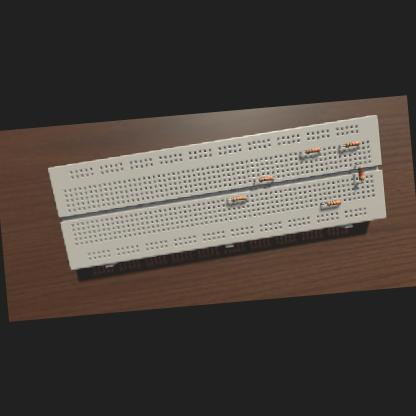breadboard: (46, 114, 388, 270)
resistor: (358, 166, 365, 180), (345, 140, 361, 146), (326, 199, 342, 205), (305, 146, 320, 152), (258, 175, 272, 181), (232, 196, 246, 202)
wire: (355, 163, 361, 167), (300, 151, 306, 154), (356, 180, 362, 183), (338, 144, 346, 146), (320, 203, 328, 205), (253, 179, 258, 180), (321, 148, 322, 150), (341, 201, 342, 202)
